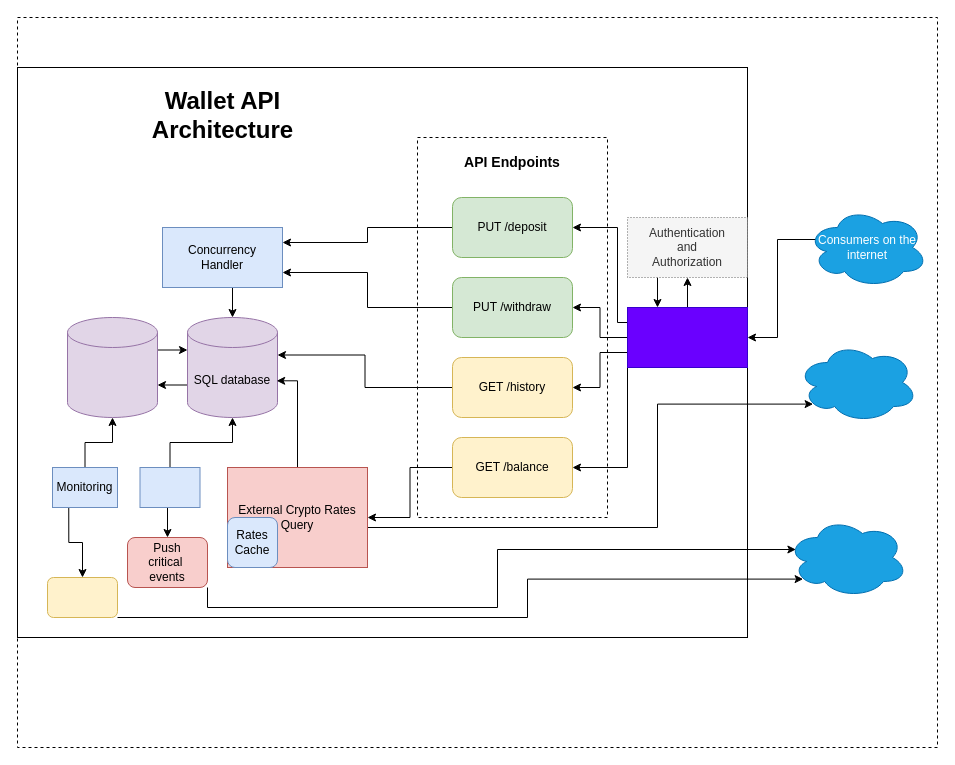
The diagram is 955 pixels wide and 765 high, and some of its shapes have lost their labels. The shapes that lost their labels are listed below. From the top down, each one's centre as x and y in pixels, then its label:
At [687,337]: "Web Firewall/DDOS prevention".
At [112,367]: "Replicated SQL database".
At [857,382]: "3rd Party Crypto Rates API".
At [169,487]: "Logging".
At [847,557]: "Operations Center".
At [82,597]: "GET /events".
